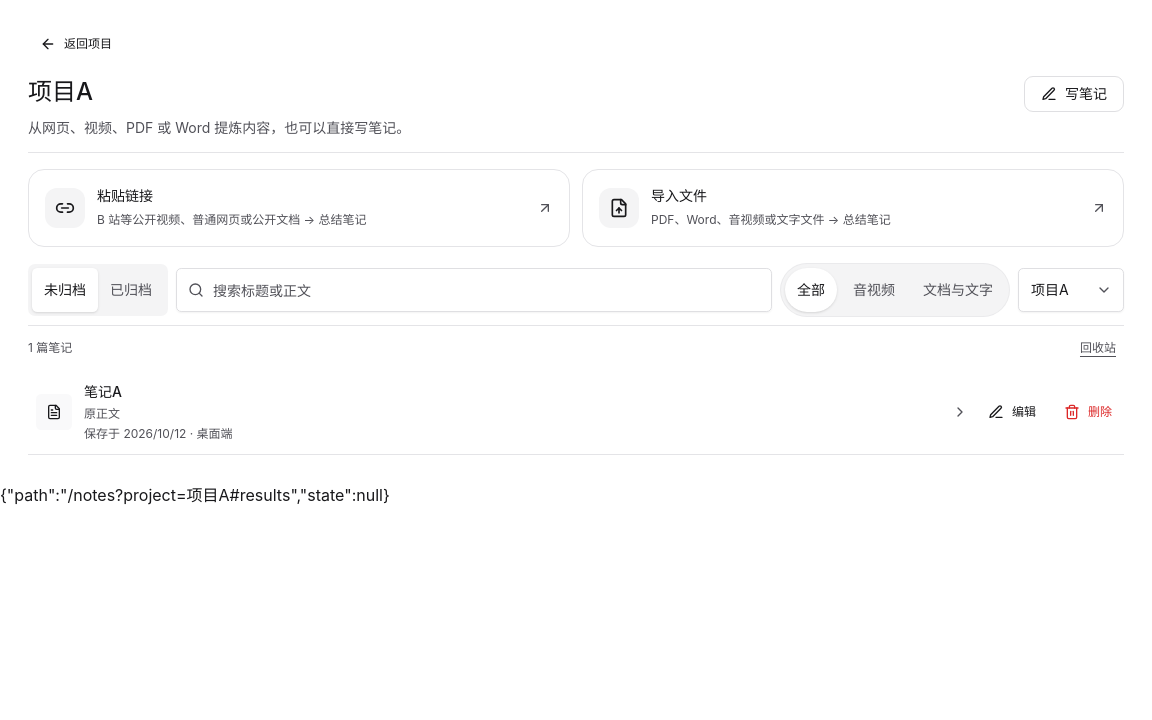
it: cancels deletion in place, then deletes only the actual content identity after explicit confirmation
Click the button with aria-label "删除《笔记A》". click: (1088, 412)
box: x1=1052 y1=390 x2=1124 y2=434
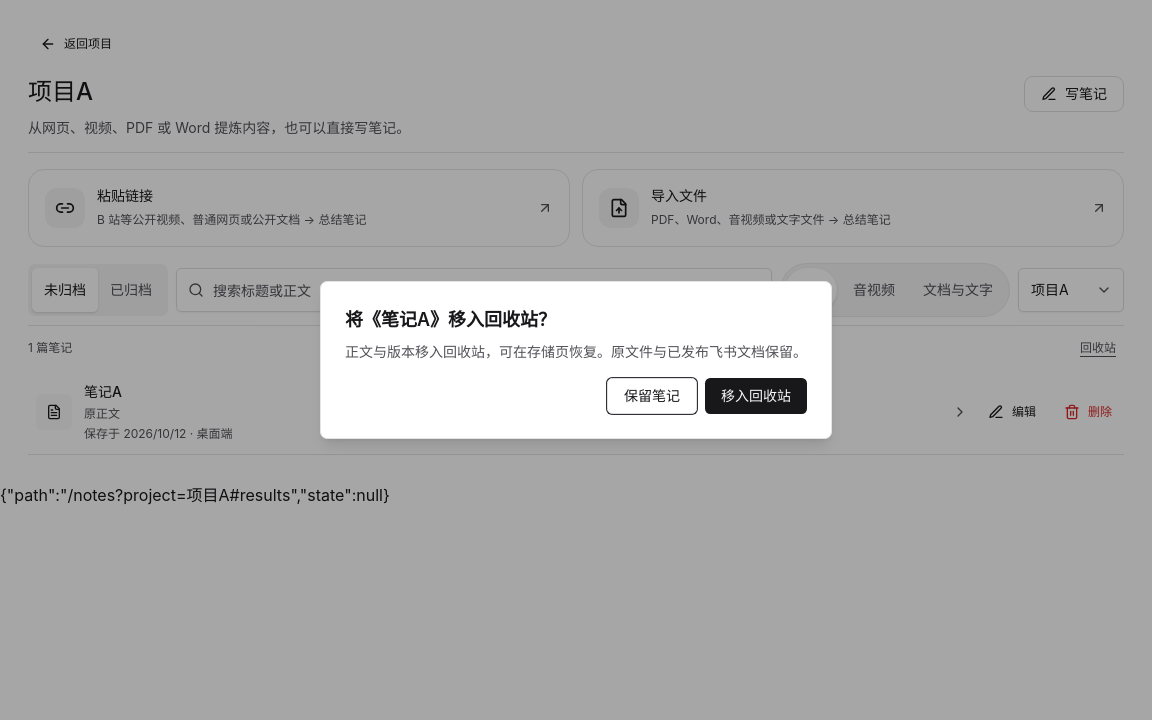
Result: the dialog shows "原文件与已发布飞书文档保留" at x1=345 y1=343 x2=807 y2=360
Click the button "保留笔记". click: (652, 396)
box: x1=607 y1=378 x2=697 y2=414
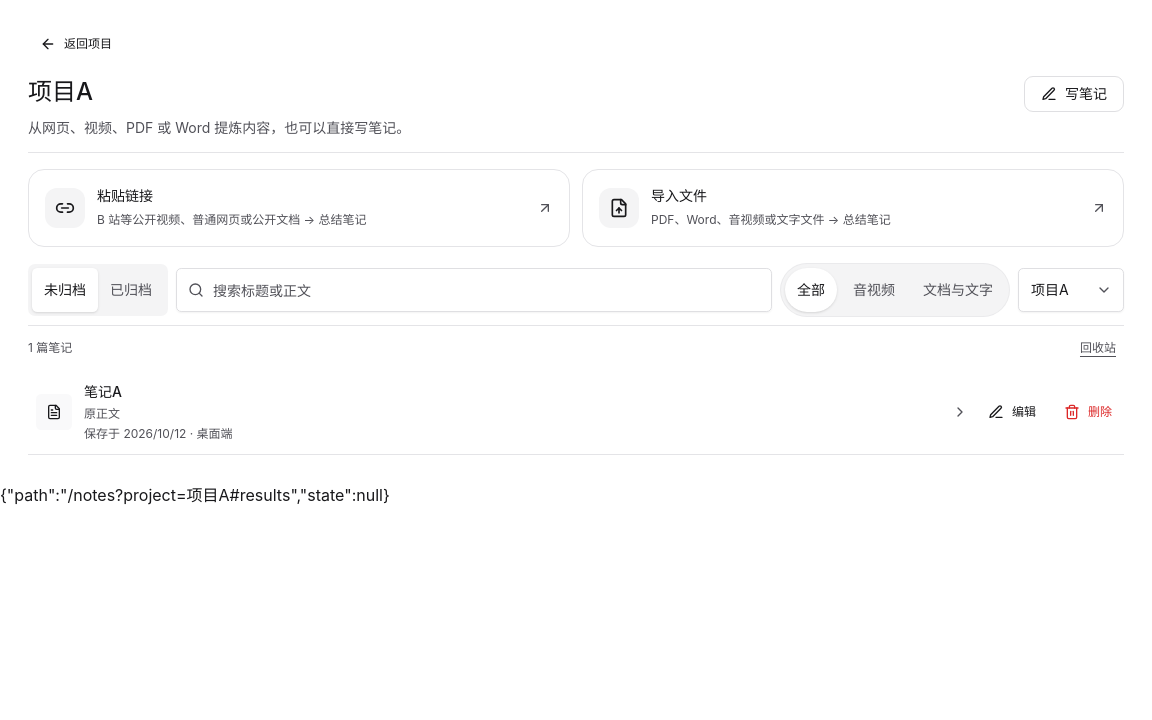
Click the button with aria-label "删除《笔记A》". click: (1088, 412)
box: x1=1052 y1=390 x2=1124 y2=434
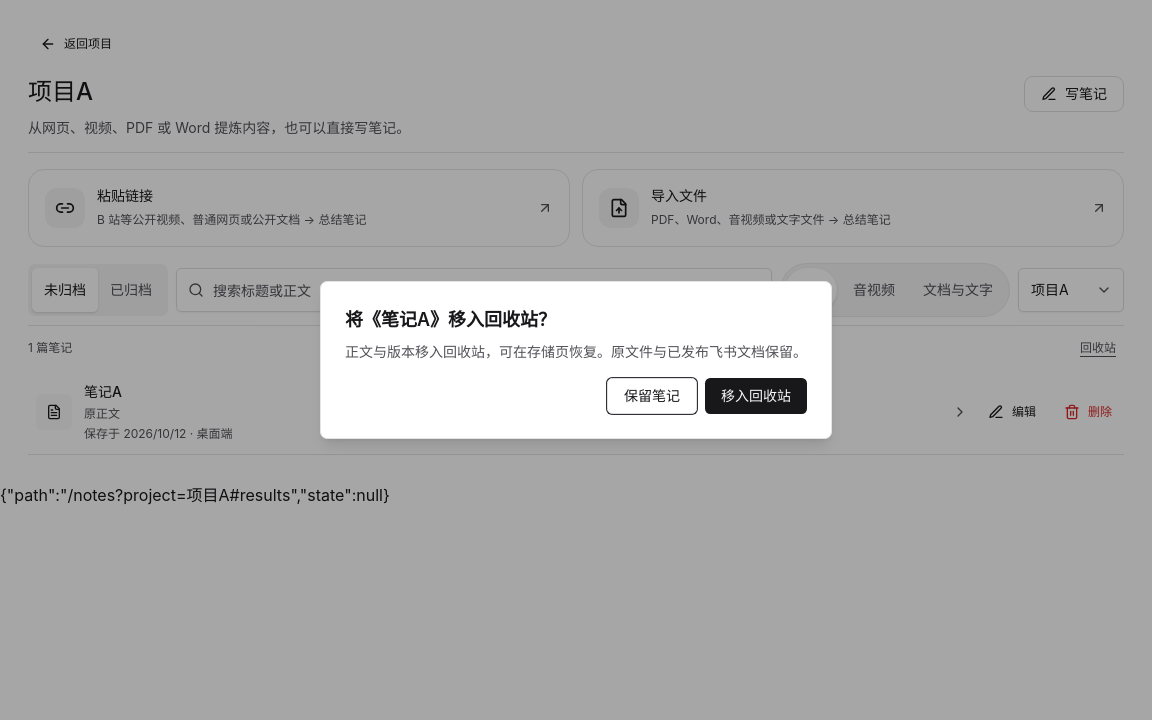
Click the button "移入回收站". click: (756, 396)
box: x1=705 y1=378 x2=807 y2=414
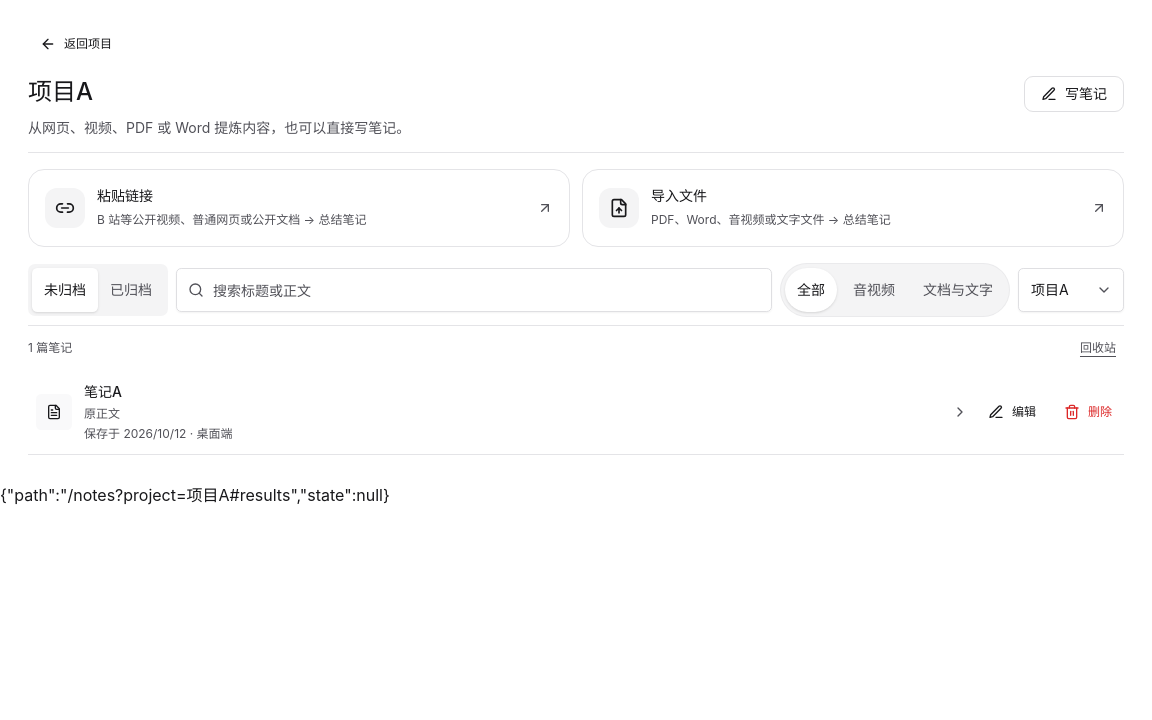
Result: the dialog is gone
